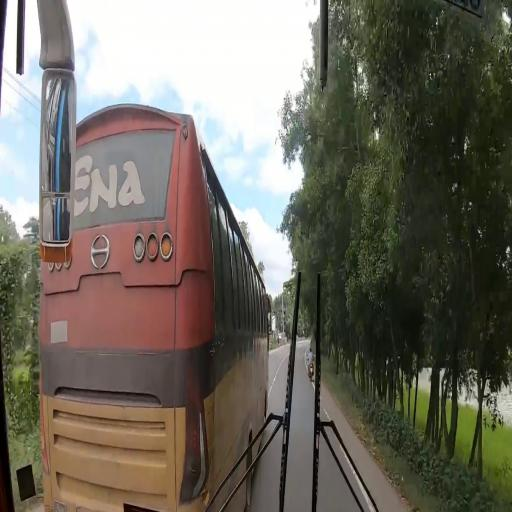bus: (40, 101, 276, 512)
motorbike: (310, 363, 315, 380)
